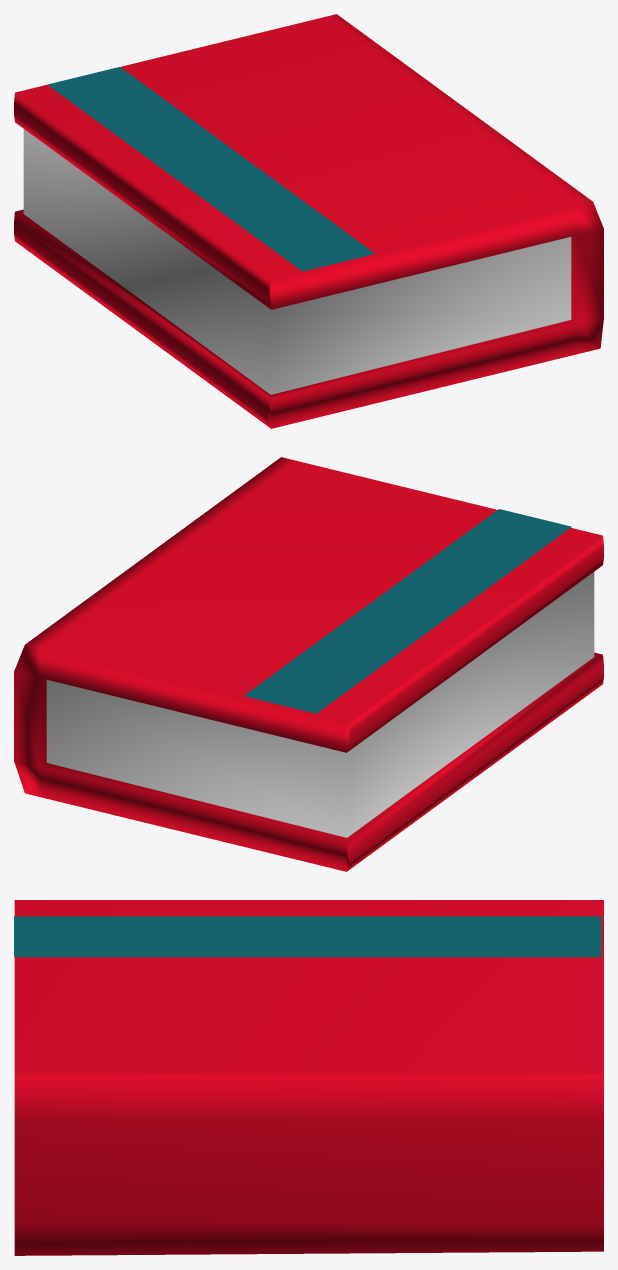
File: Livro com Faixa.fbx
3 renders of one model, top to bottom at view 1: azimuth 30°, elevation 25°; view 2: azimuth 150°, elevation 25°; view 3: azimuth 270°, elevation 25°, orthographic. The views are drawn at different scales.
Visible parts, largest first — view 1: Livro Grande Com faixa de metal.001; view 2: Livro Grande Com faixa de metal.001; view 3: Livro Grande Com faixa de metal.001.
Boxes of the visible parts, x1,y1,x2,y2 form: Livro Grande Com faixa de metal.001: (14, 14, 603, 428); Livro Grande Com faixa de metal.001: (14, 457, 603, 871); Livro Grande Com faixa de metal.001: (14, 900, 603, 1255).
Bounding box in the file's own units: 13.65 × 5.83 × 18.1.
